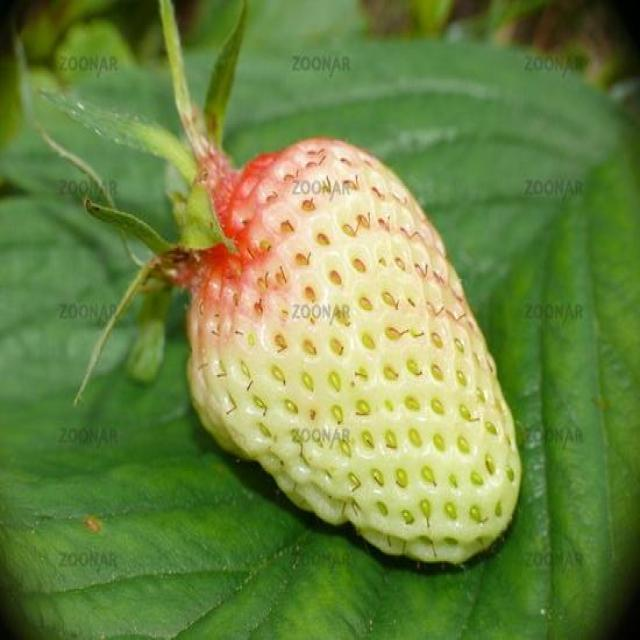Strawberry: (190, 136, 522, 562)
